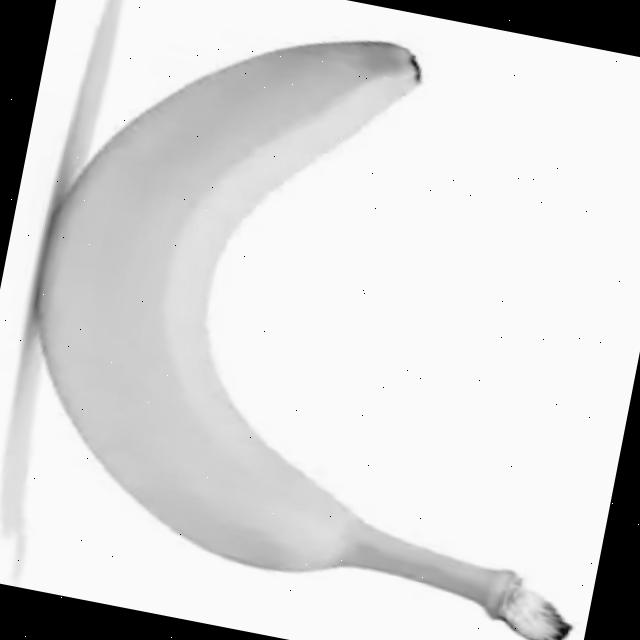Ripe: (0, 0, 614, 621)
